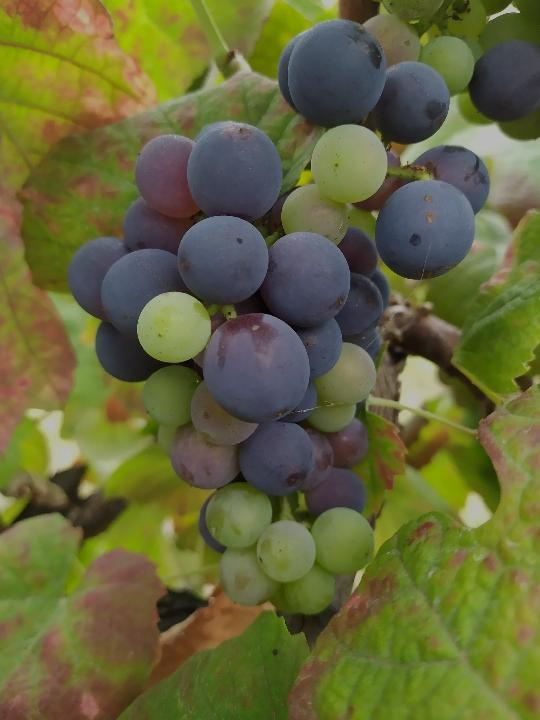grape: (64, 118, 392, 618)
